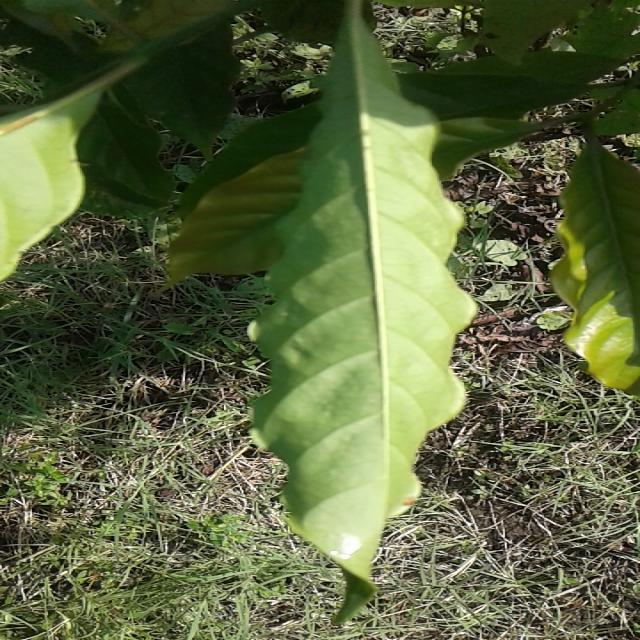Sanas: (250, 0, 476, 624)
